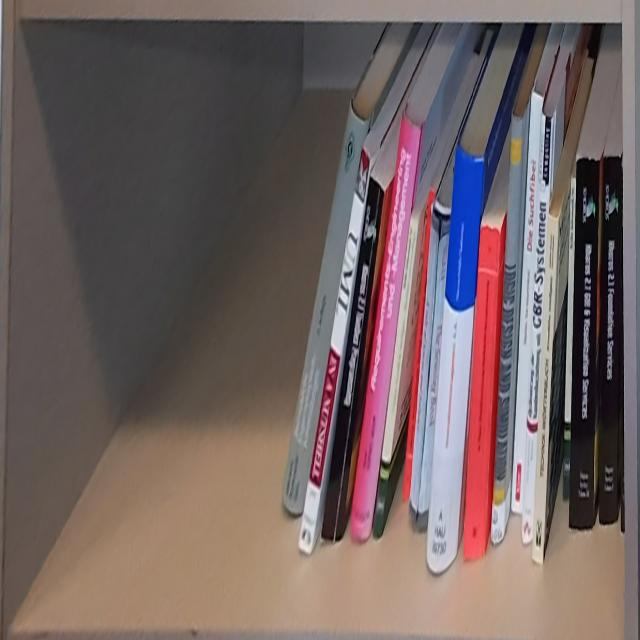Book Spine: (281, 98, 370, 517), (296, 149, 372, 559), (350, 114, 421, 545), (426, 144, 484, 576), (320, 175, 386, 543), (372, 216, 418, 538), (521, 114, 554, 545), (491, 113, 523, 549), (512, 89, 544, 514), (464, 228, 502, 563), (568, 156, 602, 530), (417, 218, 450, 533), (409, 212, 441, 531), (530, 213, 559, 564), (599, 158, 622, 527), (562, 177, 575, 503)
